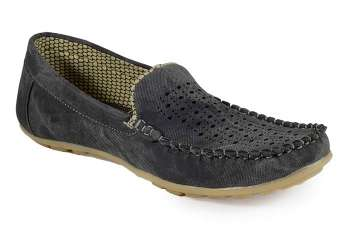Footwear: (13, 28, 333, 201)
